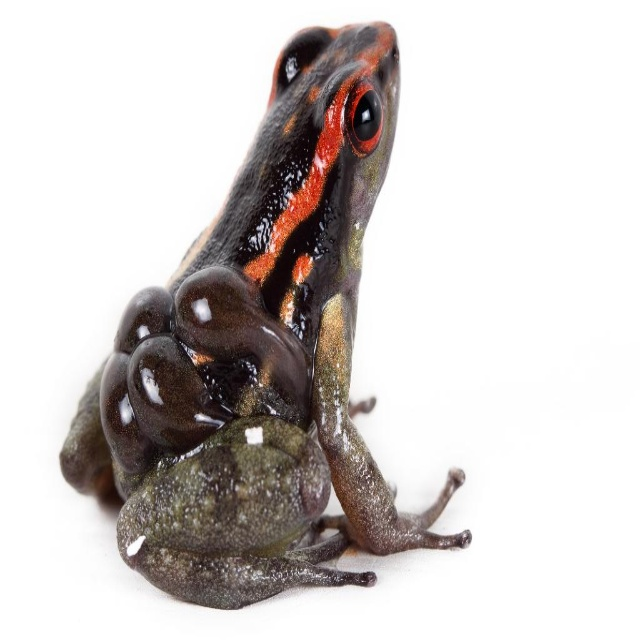Frog: (58, 21, 472, 613)
